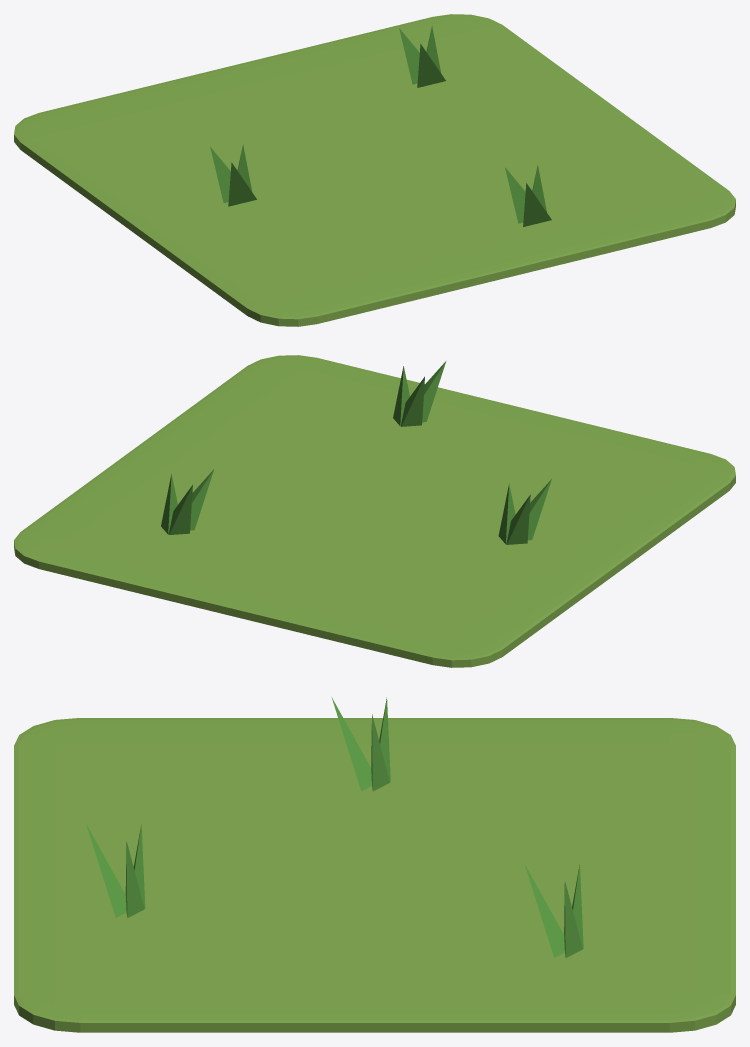
Rendered from field.glb.
3 views of the same model, one above another, from view 1: azimuth 30°, elevation 25°; view 2: azimuth 150°, elevation 25°; view 3: azimuth 270°, elevation 25° (orthographic). The views are drawn at different scales.
Parts seen in each view (by area): view 1: grass, flower; view 2: grass, flower; view 3: grass, flower.
Boxes of the visible parts, bbox=[...] form: grass: bbox=[14, 14, 735, 326]; flower: bbox=[210, 26, 551, 226]; grass: bbox=[14, 355, 735, 667]; flower: bbox=[161, 361, 551, 544]; grass: bbox=[14, 718, 735, 1032]; flower: bbox=[86, 697, 583, 957].
Size of the model in its own units: 8.59 by 1.1 by 8.59.
